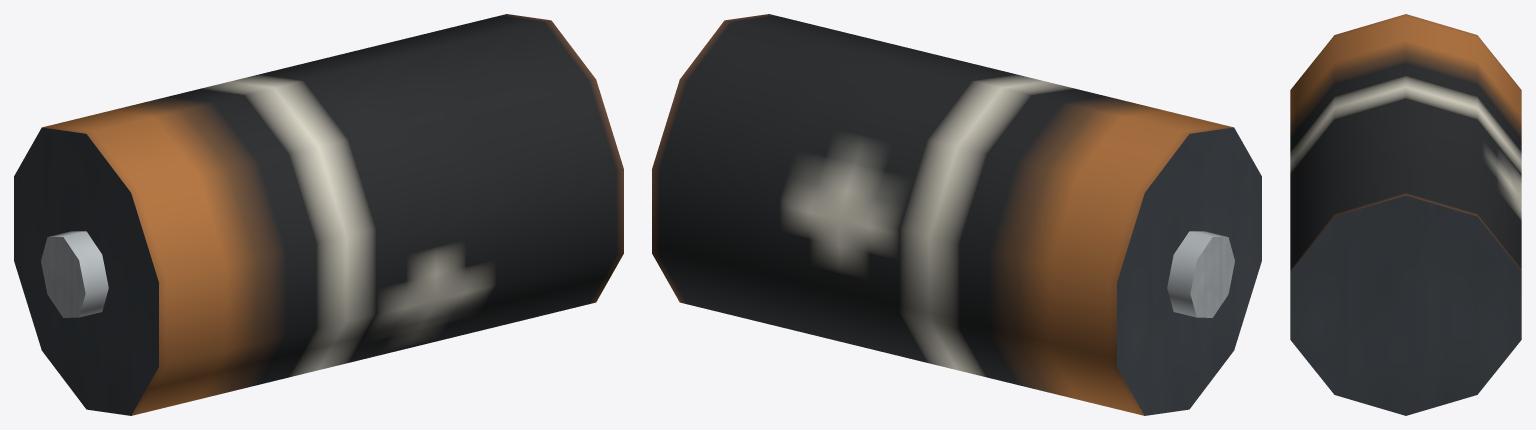
Rendered from battery.fbx.
3 views of the same model, side by side, from view 1: azimuth 30°, elevation 25°; view 2: azimuth 150°, elevation 25°; view 3: azimuth 270°, elevation 25° (orthographic). The views are drawn at different scales.
Visible parts, largest first — view 1: battery; view 2: battery; view 3: battery.
Part boxes in pixels (x1=…): battery: x1=14, y1=14, x2=623, y2=415; battery: x1=652, y1=14, x2=1261, y2=415; battery: x1=1290, y1=14, x2=1521, y2=415.
Bounding box in the file's own units: 0.063 × 0.034 × 0.0323.
1 material, 1 textured.
